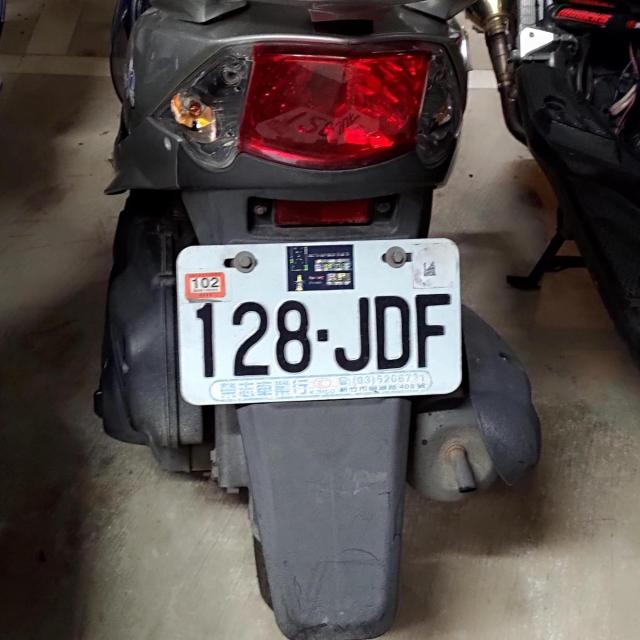W: (171, 237, 463, 403)
